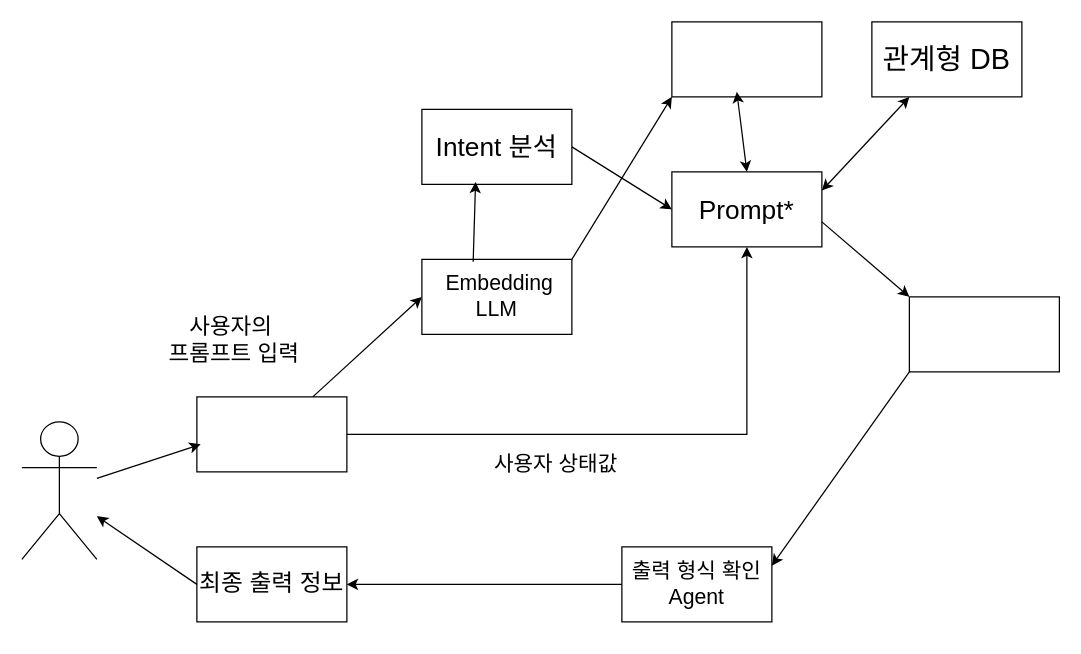
Image size: 1081x654. Some labels were removed from this diagram. The shapes that lost their labels are listed below. From the top down, each one's box as (x1, y1, x2, y2) in pixels, then its label:
(671, 21, 822, 97): 벡터DB
(908, 296, 1059, 372): LLM
(196, 396, 347, 472): 클라이언트 요청
